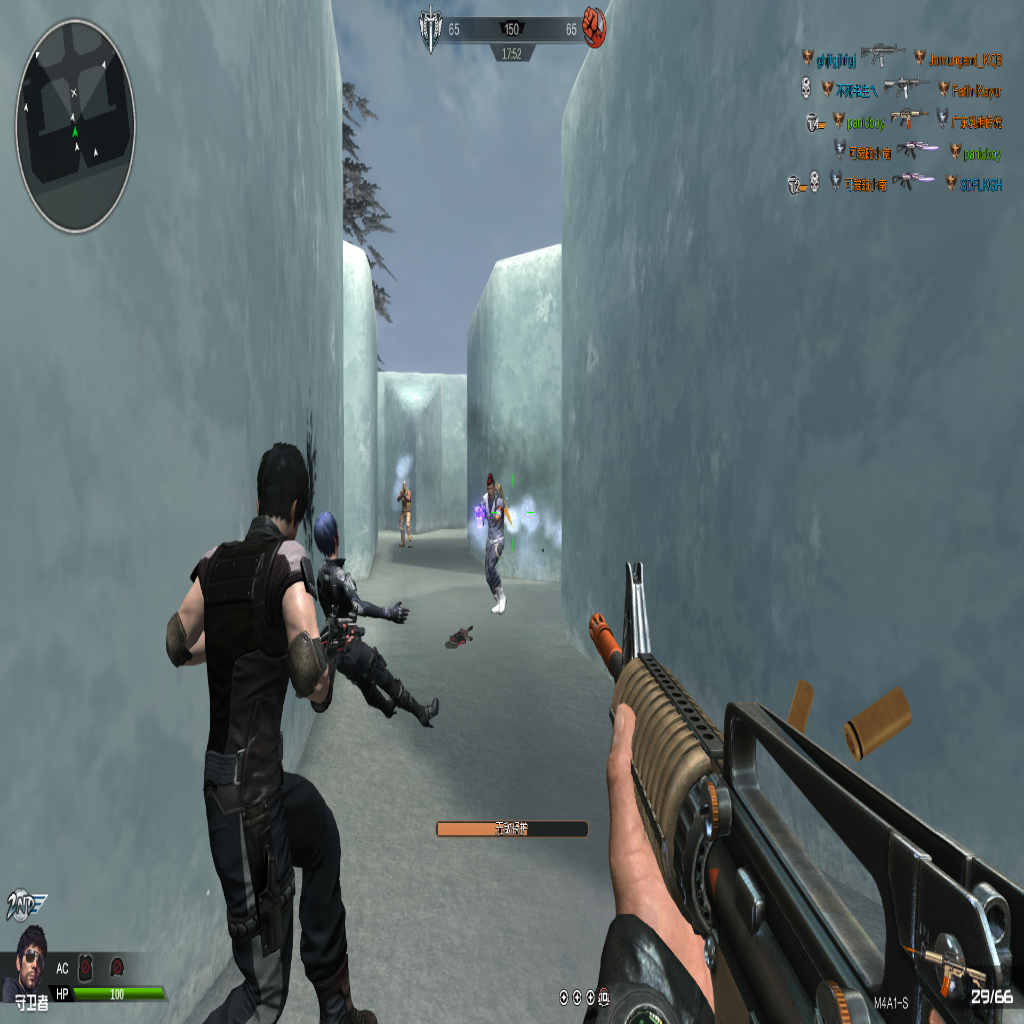tt: (479, 471, 509, 621), (397, 481, 411, 548)
